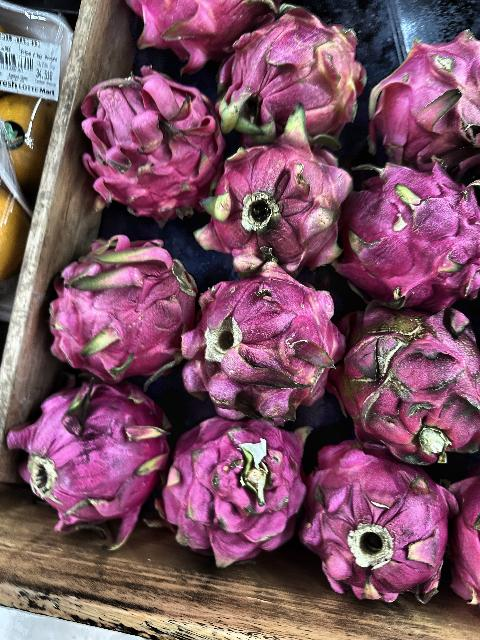buah-naga-belum-matang: (228, 15, 364, 141)
buah-naga-matang: (302, 422, 446, 606), (16, 379, 166, 555), (158, 398, 308, 570), (180, 258, 344, 414), (342, 280, 480, 460), (50, 230, 190, 386), (338, 152, 480, 298), (206, 126, 342, 278), (72, 70, 216, 212), (370, 25, 480, 168)
